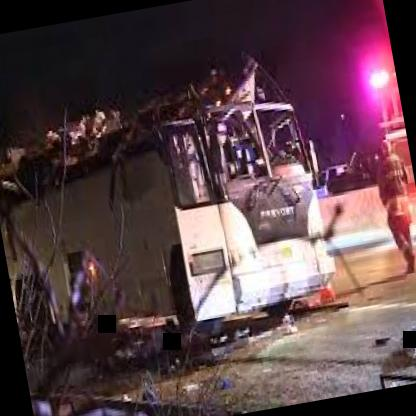accident: (0, 54, 352, 373)
